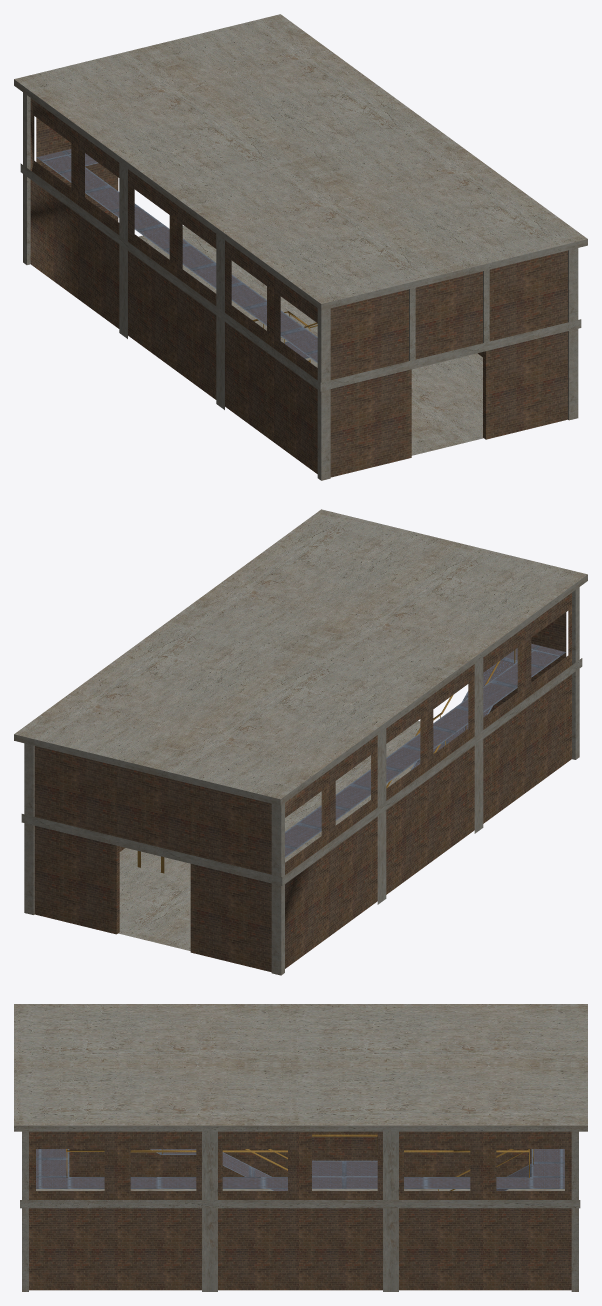
The model's file is Building_Fdc05_2048_lod2.glb.
3 renders of one model, top to bottom at view 1: azimuth 30°, elevation 25°; view 2: azimuth 150°, elevation 25°; view 3: azimuth 270°, elevation 25°, orthographic. The views are drawn at different scales.
Parts seen in each view (by area): view 1: xiutz_fdc_05_lod2; view 2: xiutz_fdc_05_lod2; view 3: xiutz_fdc_05_lod2.
Boxes of the visible parts, x1=… form: xiutz_fdc_05_lod2: x1=14, y1=14, x2=587, y2=480; xiutz_fdc_05_lod2: x1=14, y1=509, x2=587, y2=975; xiutz_fdc_05_lod2: x1=14, y1=1004, x2=587, y2=1291.
Bounding box in the file's own units: 18.19 × 11.85 × 36.32.
1 material, 1 textured.
